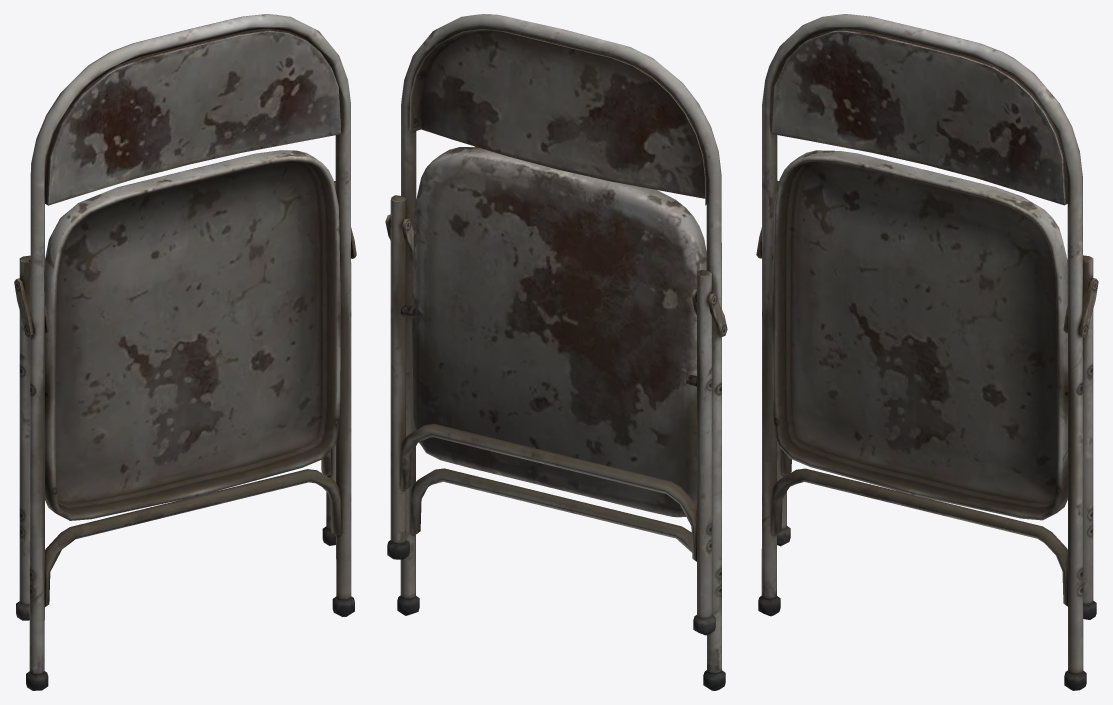
File: folding_chair_b_rusty_red.glb
3 renders of one model, left to right at view 1: azimuth 30°, elevation 25°; view 2: azimuth 150°, elevation 25°; view 3: azimuth 330°, elevation 25°, orthographic.
Visible parts, largest first — view 1: folding_chair_b_rusty_red; view 2: folding_chair_b_rusty_red; view 3: folding_chair_b_rusty_red.
Boxes of the visible parts, <box> form: folding_chair_b_rusty_red: <box>14,14,356,690</box>; folding_chair_b_rusty_red: <box>385,14,727,690</box>; folding_chair_b_rusty_red: <box>756,14,1098,690</box>.
Bounding box in the file's own units: 0.5596 × 1.02 × 0.0713.
Materials: 1 (1 with a texture image).
